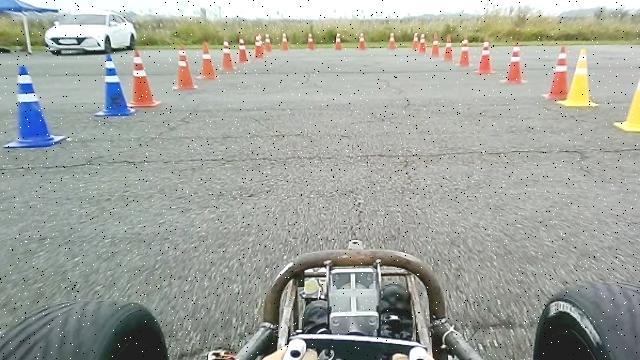blue cone: (2, 64, 66, 148), (93, 52, 135, 115)
red cone: (127, 49, 161, 107), (541, 46, 568, 100), (171, 44, 198, 90), (499, 43, 528, 83), (194, 40, 219, 80), (474, 41, 497, 74), (218, 40, 236, 72), (456, 38, 470, 66), (554, 45, 568, 71), (237, 38, 250, 63)
yellow cone: (556, 48, 598, 107), (612, 57, 640, 132)
